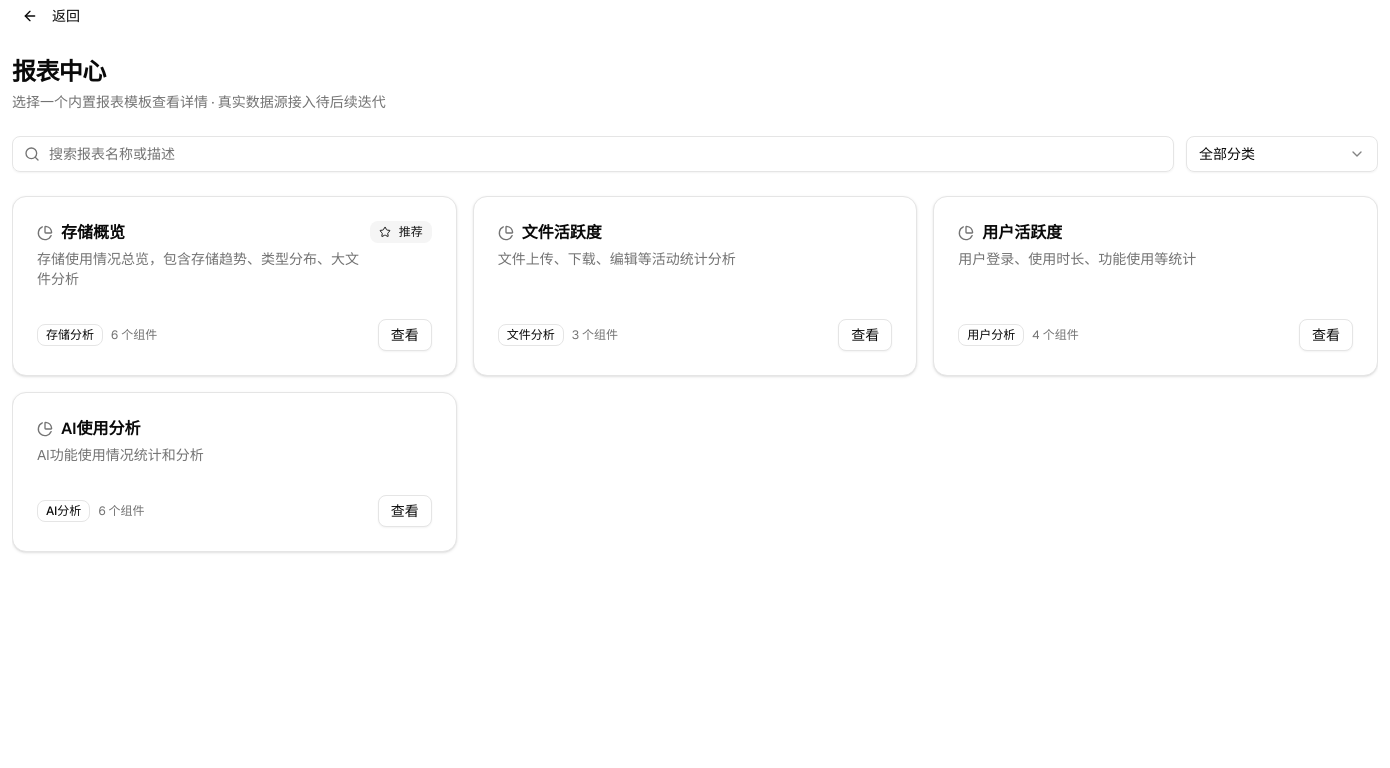
Test: 报表列表页 /reports › 关键词无匹配时显示空态并隐藏网格
This screenshot has width=1390, height=768.
Type "zzzzzz" into the field with test id "reports-search-input" at (593, 154), box [12,136,1174,172]
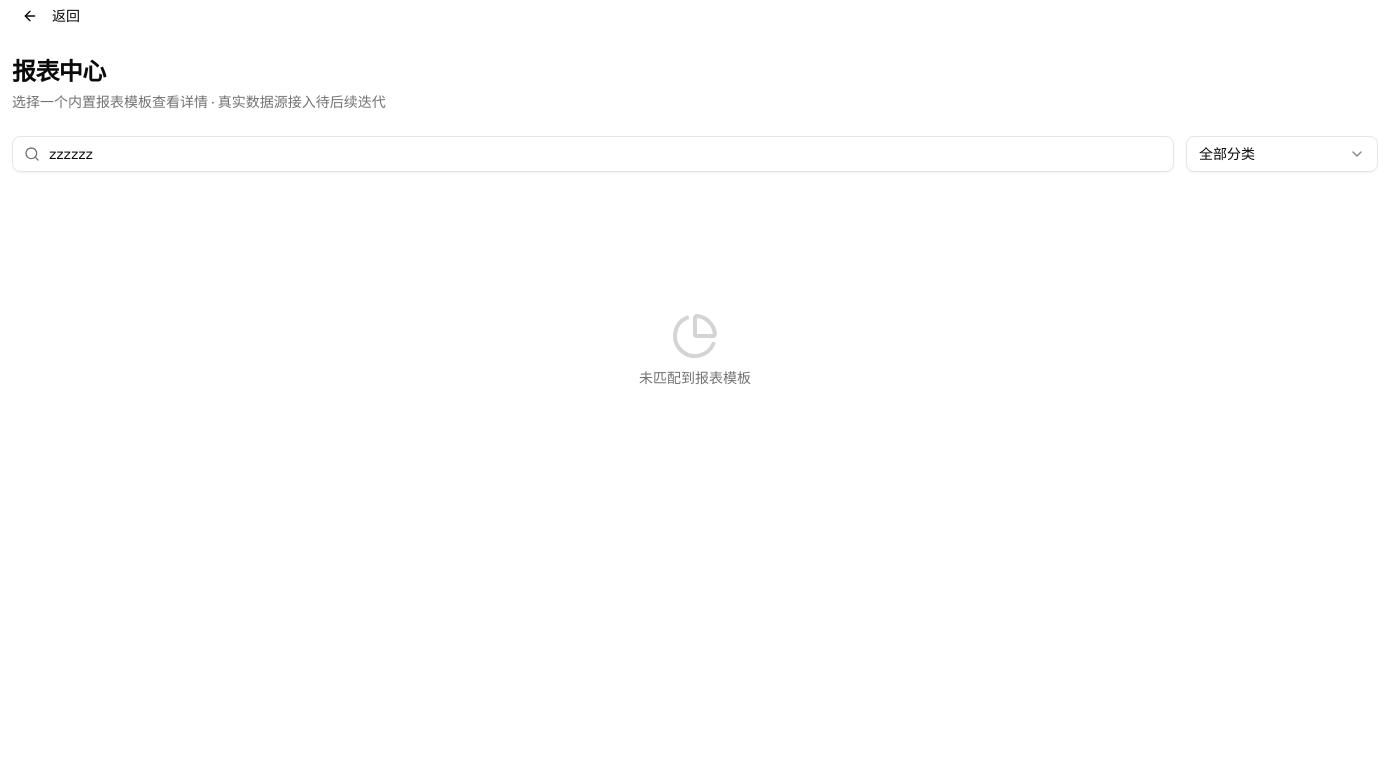
Check: the element with test id "reports-empty" is shown, box [639,312,751,387]
Check: the text "未匹配到报表模板" is shown, box [639,368,751,388]
